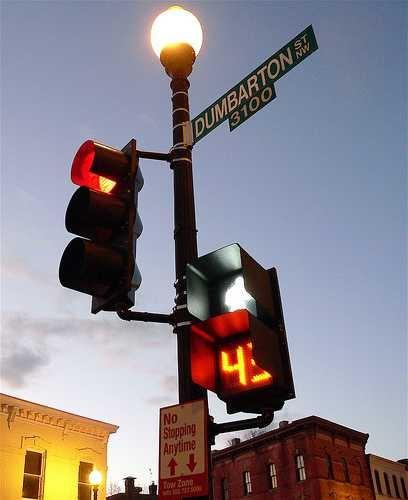red: (62, 136, 135, 316), (204, 332, 279, 394), (77, 147, 127, 196)
